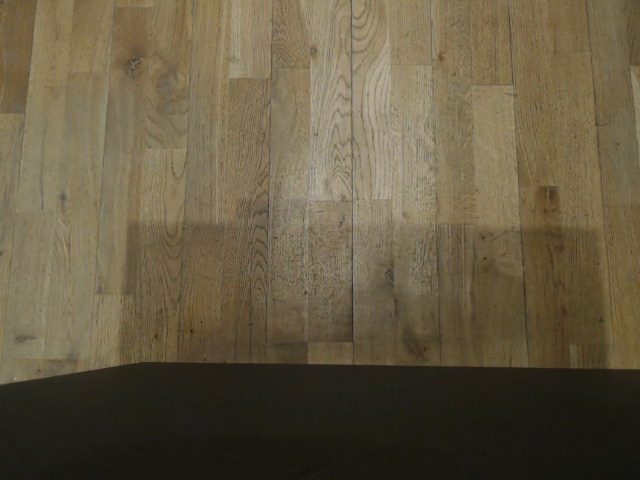beer: (267, 44, 350, 129), (129, 285, 215, 360), (214, 293, 305, 358), (444, 326, 548, 373)
cola: (85, 0, 170, 42)
